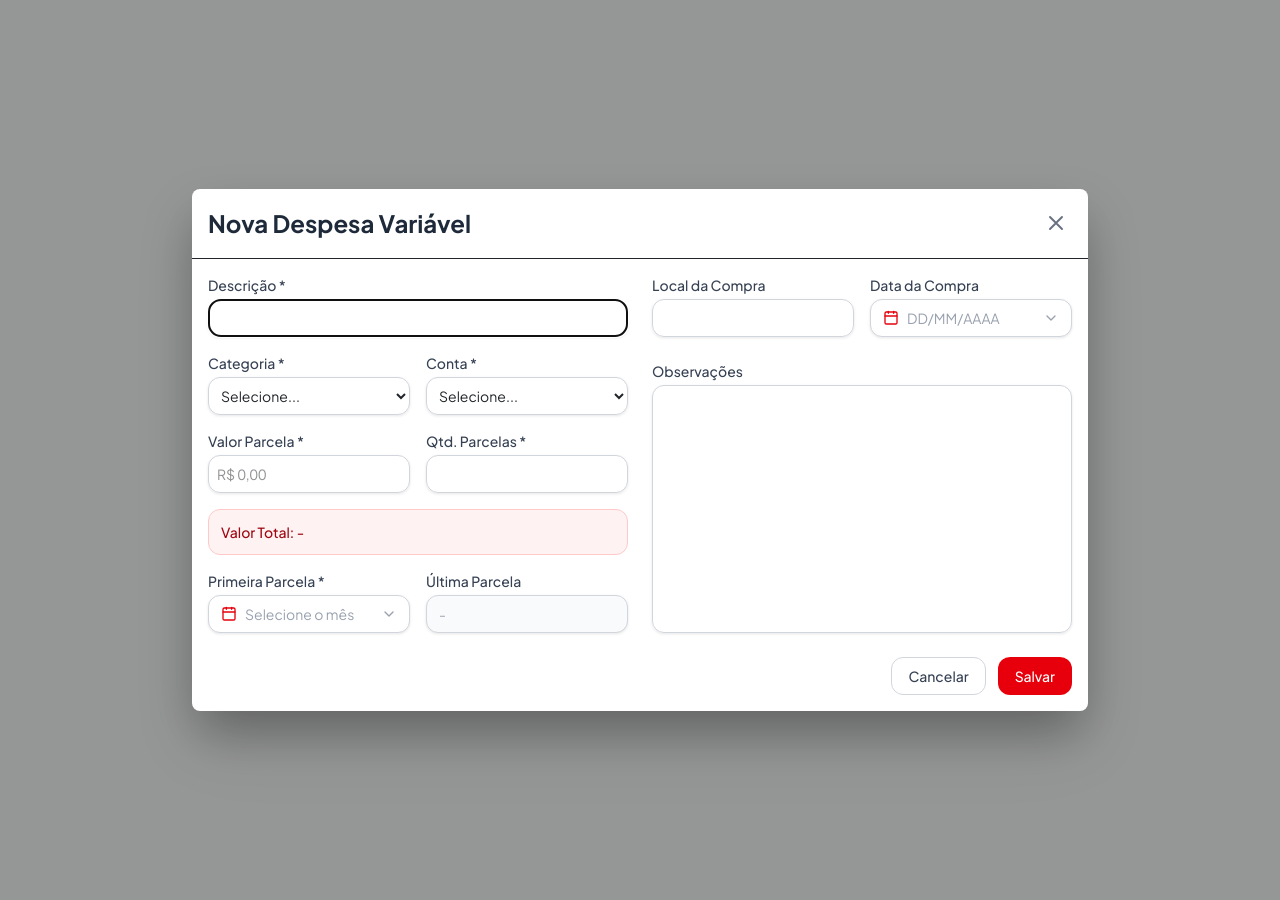
Test: MovimentacaoForm - Componentes Compartilhados › MovimentacaoVariavelFormModal › valida campos obrigatórios da movimentação variável ao submeter
This screenshot has width=1280, height=900.
Step 1. Click the button "Salvar" → (1035,676), box [998,657,1072,695]
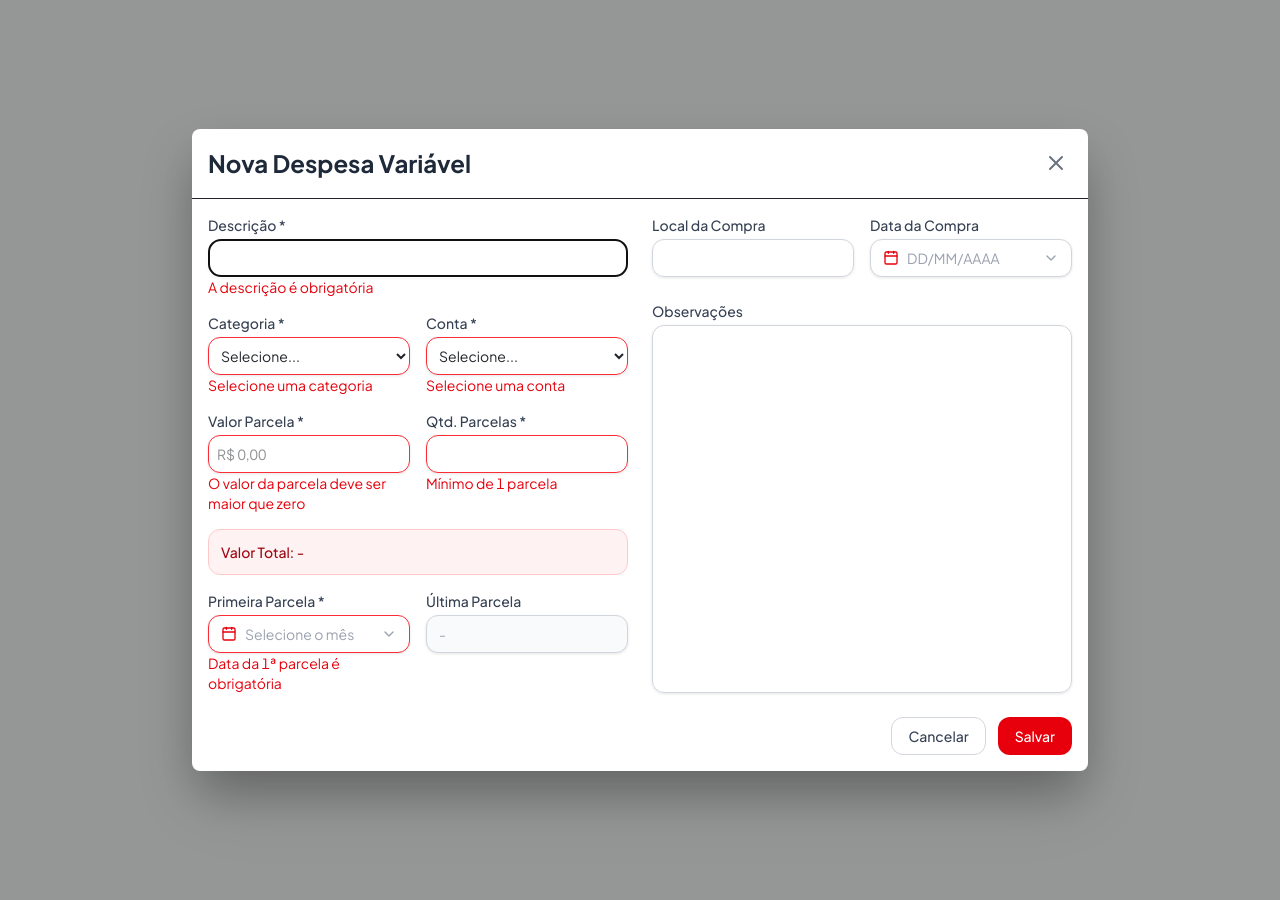
Expected: the text "A descrição é obrigatória" is shown, [208,278,374,296]
Expected: the text "O valor da parcela deve ser maior que zero" is shown, [208,473,410,513]
Expected: the text "Mínimo de 1 parcela" is shown, [426,474,557,492]
